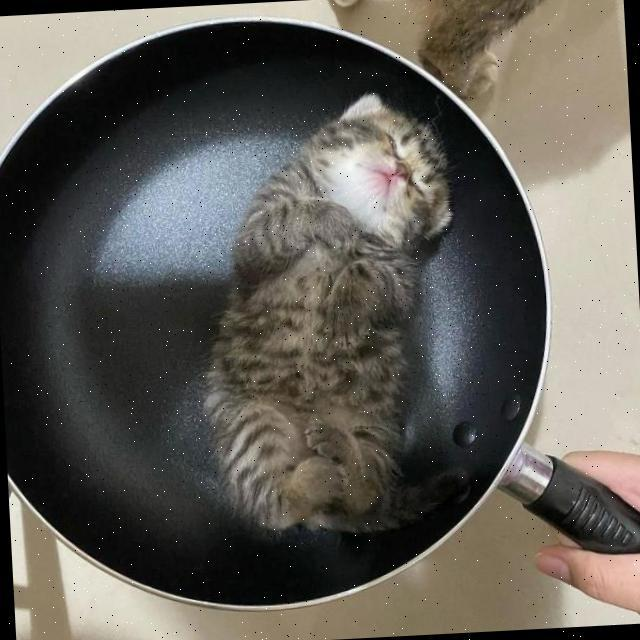Cats: (183, 89, 474, 544)
